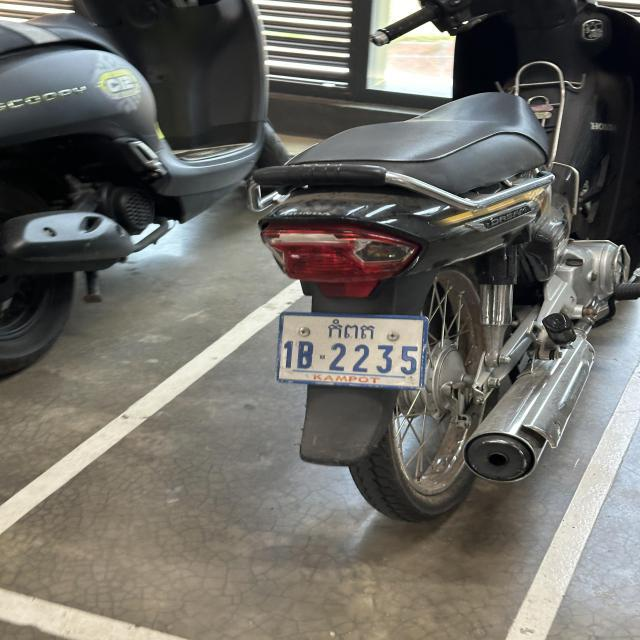Kampot: (327, 318, 374, 341)
